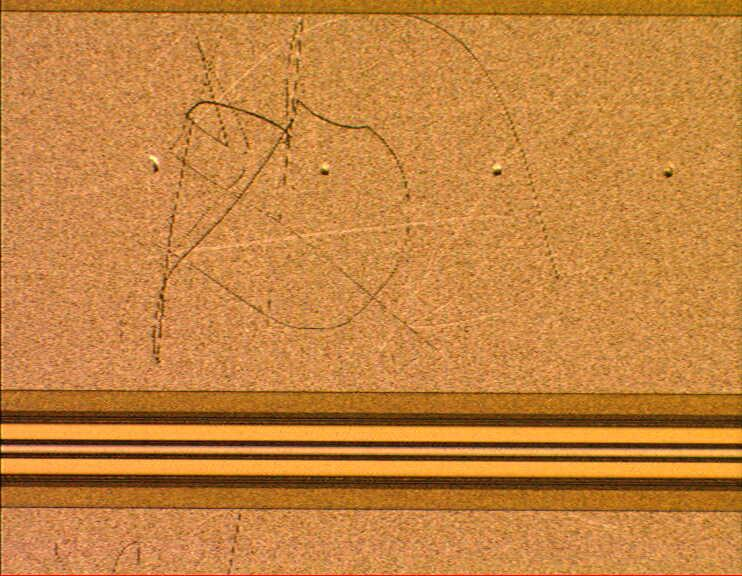SCRATCH: (44, 1, 674, 576)
